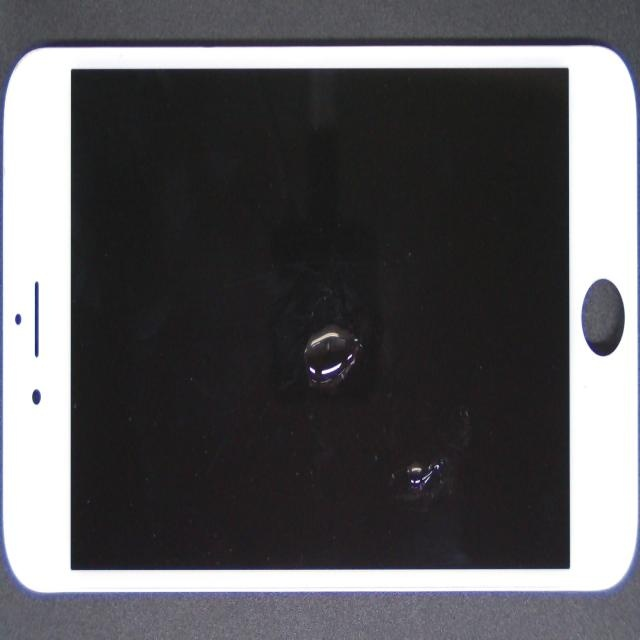oil: (237, 239, 640, 640), (182, 191, 545, 520)
